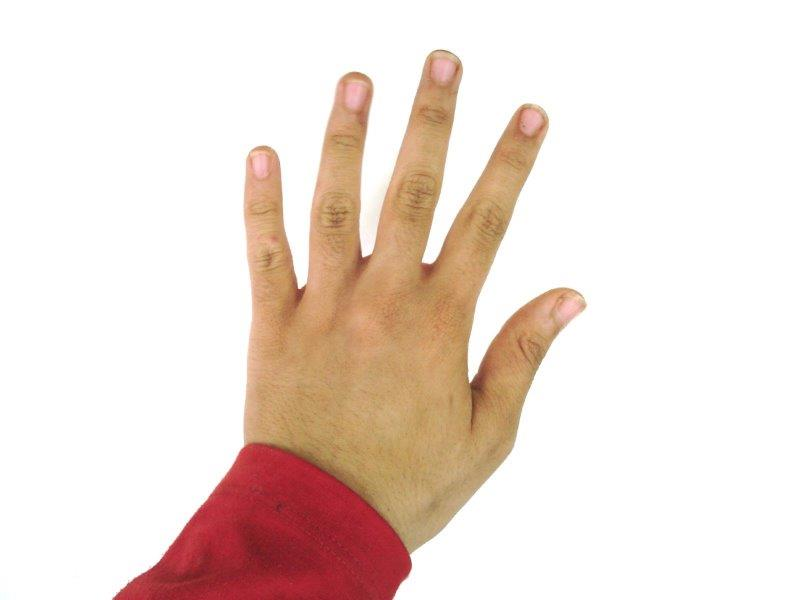hand: (244, 48, 586, 530)
